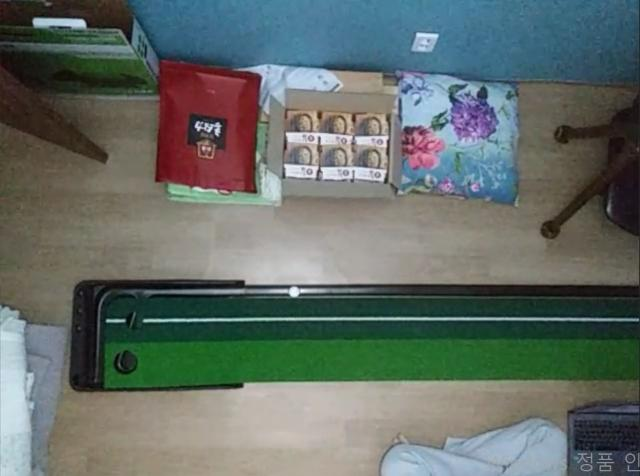golf_ball: (288, 286, 301, 299)
green_zone: (104, 297, 640, 389)
hole: (113, 350, 139, 376), (126, 311, 143, 330)
